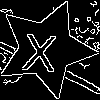X: (21, 23, 59, 72)
